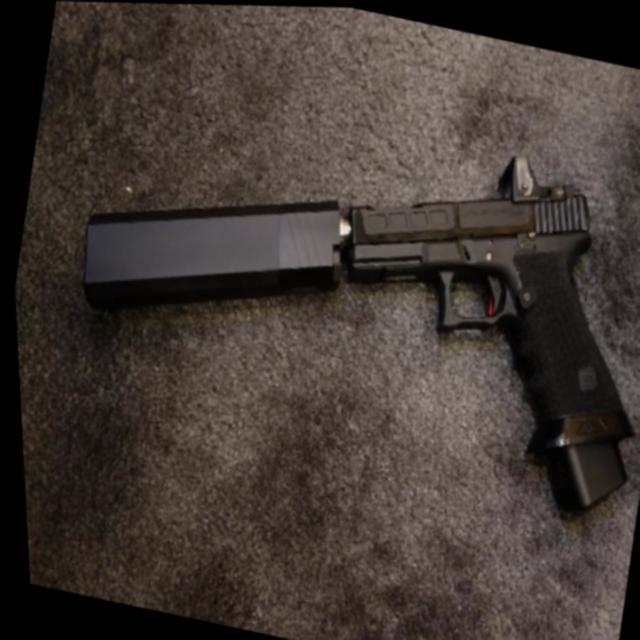weapon: (43, 63, 640, 523)
